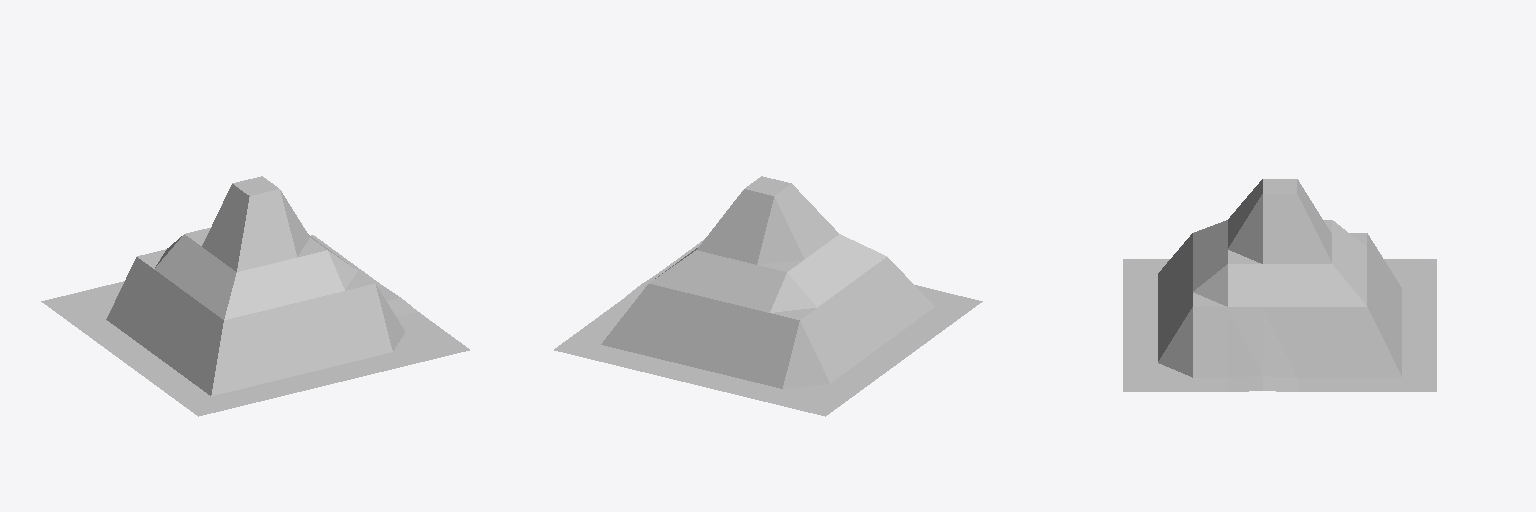
Rendered from gaussienne.obj.
3 renders of one model, left to right at view 1: azimuth 30°, elevation 25°; view 2: azimuth 150°, elevation 25°; view 3: azimuth 270°, elevation 25°, orthographic.
Parts seen in each view (by area): view 1: Grid; view 2: Grid; view 3: Grid.
Boxes of the visible parts, x1=… form: Grid: x1=41, y1=176, x2=469, y2=416; Grid: x1=554, y1=176, x2=982, y2=416; Grid: x1=1123, y1=179, x2=1436, y2=391.
Bounding box in the file's own units: 1 × 0.4895 × 1.